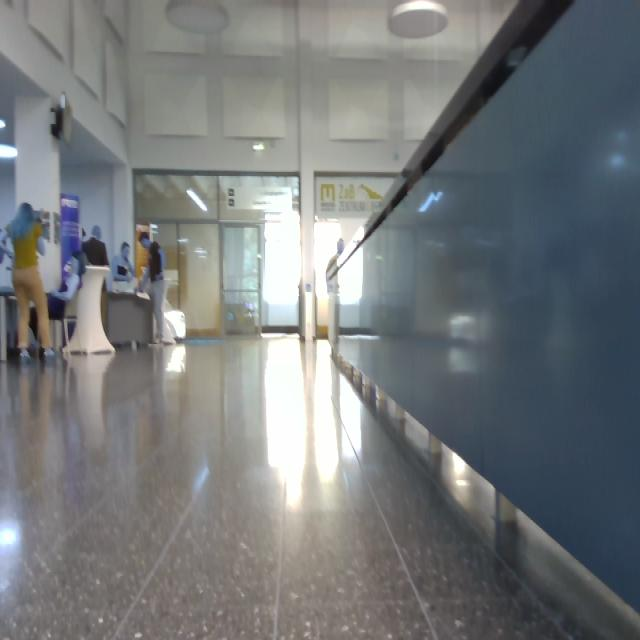door: (180, 224, 220, 335), (224, 226, 262, 335)
light bulb: (390, 1, 449, 39), (167, 1, 230, 34), (187, 191, 209, 212), (1, 147, 19, 159), (254, 144, 265, 151)
person: (1, 204, 56, 362), (65, 266, 115, 354), (140, 233, 167, 344), (49, 258, 81, 320), (327, 239, 345, 349), (114, 243, 136, 283)
pillar: (16, 98, 62, 217)
staircase: (331, 1, 640, 639)
tiled floor: (1, 338, 566, 639)
